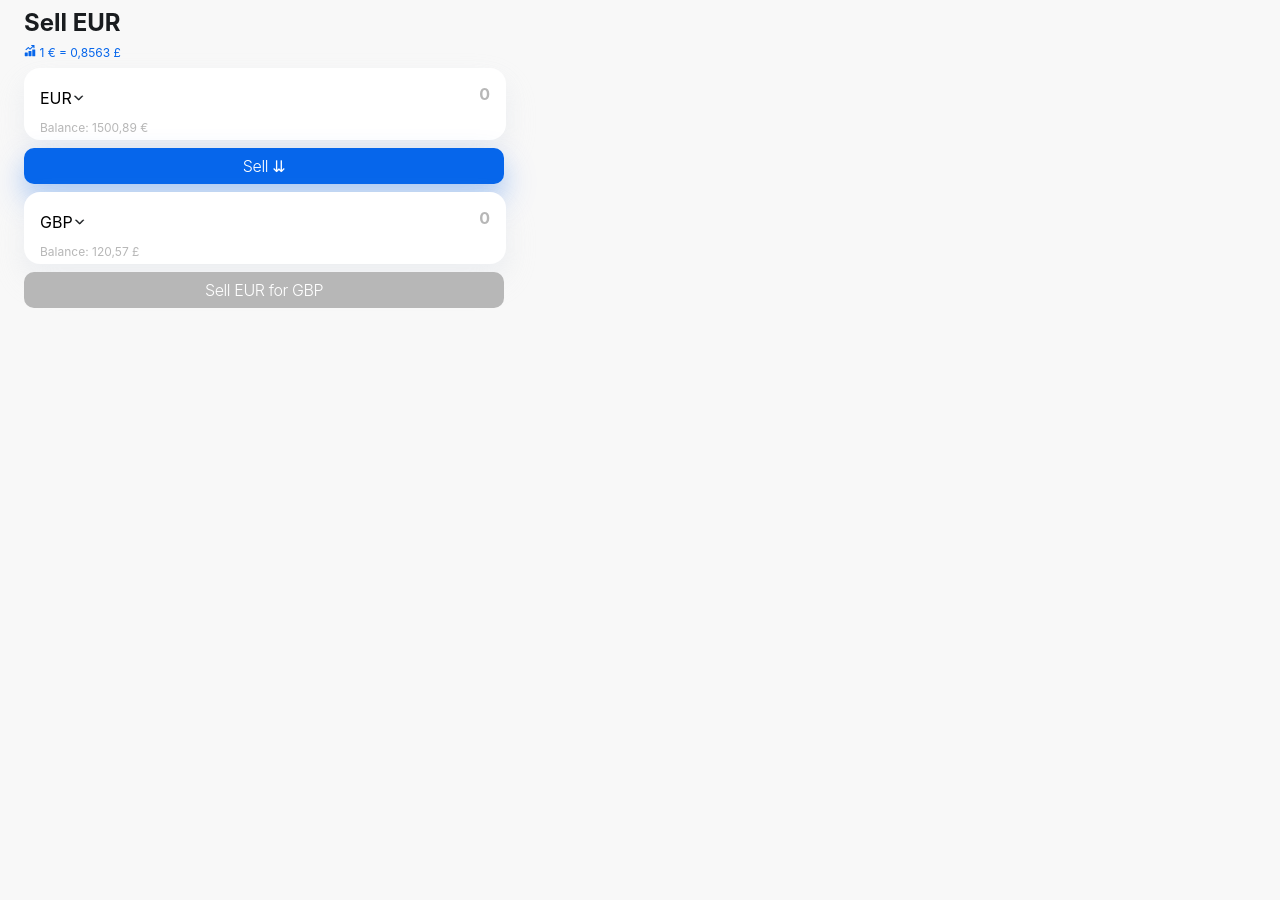
Scenario: App › change account
What coordinates should you click on to do the following:
click the button with test id "account-button" showing "EUR"
I would click on:
 (62, 98)
Its box is [40, 88, 85, 108].
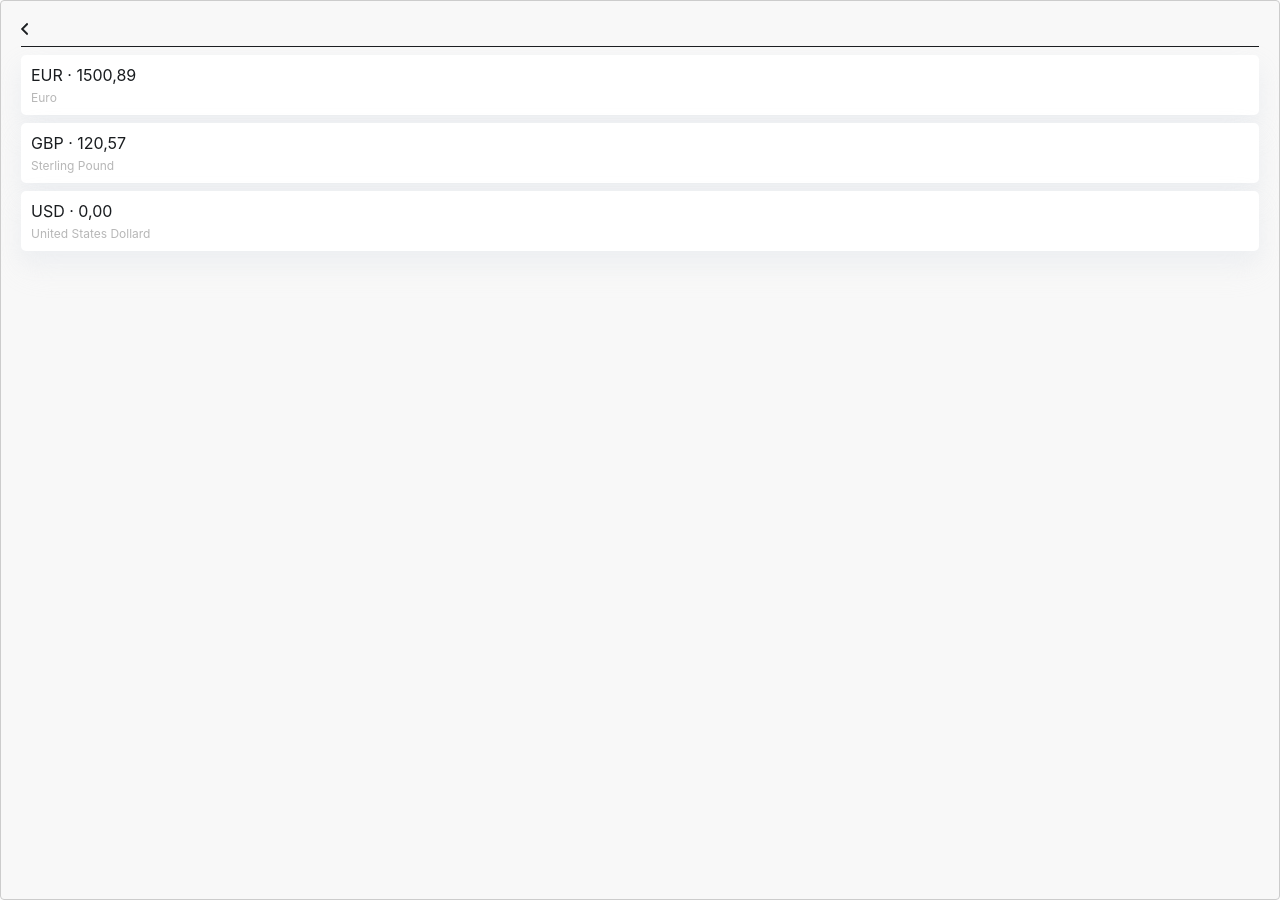
expect the number of list items with test id "account-list-item" is 3: met, box [21, 55, 1259, 115]; [21, 123, 1259, 183]; [21, 191, 1259, 251]
What coordinates should you click on to do the following:
click the text "USD · 0,00"
I would click on:
 (72, 211)
Its box is [31, 201, 112, 221].
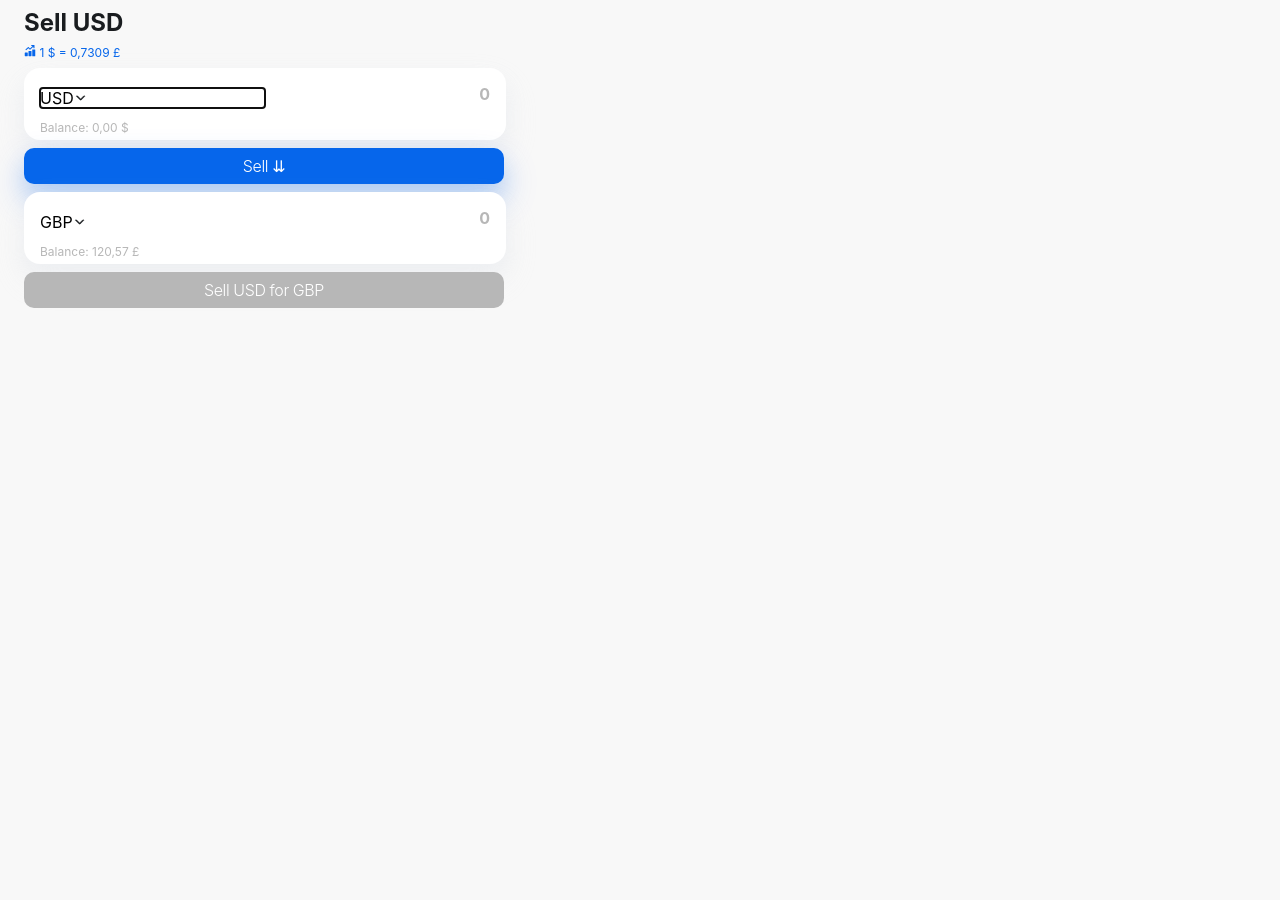
expect the button "USD" is shown: met, box [40, 88, 87, 108]
expect the text "Balance: 0,00 $" is shown: met, box [40, 120, 129, 135]
expect the text "1 $ = 0,7309 £" is shown: met, box [24, 45, 120, 60]
